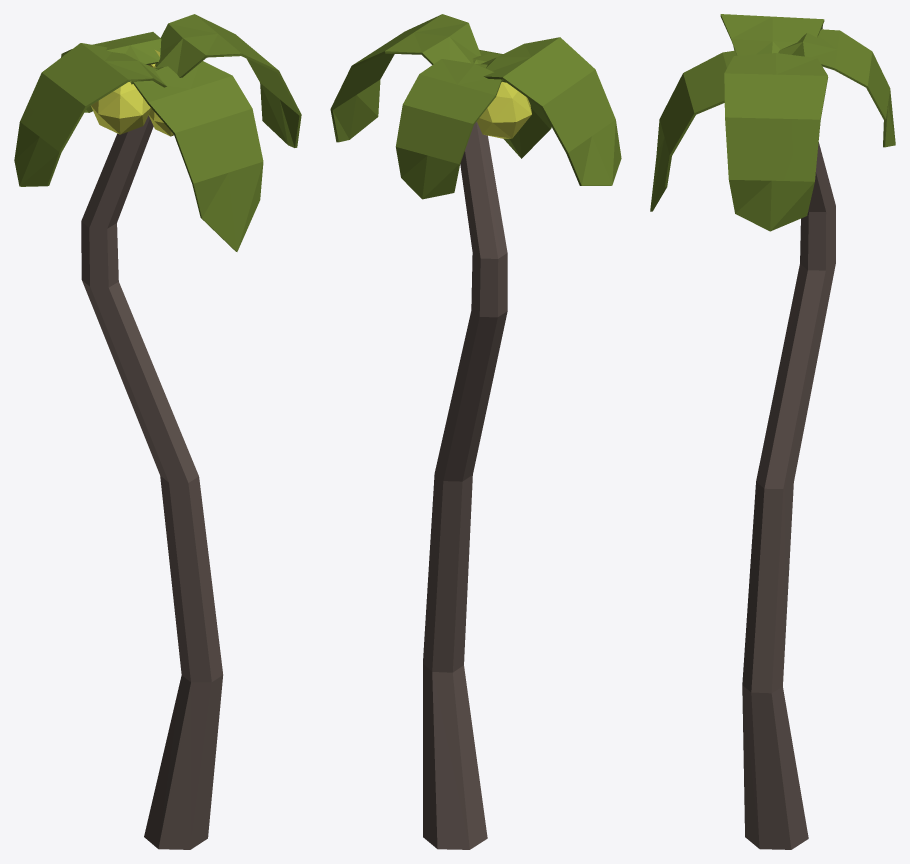
The model's file is 08 Coconut_Tree_2.FBX.
The picture shows the model from 3 angles, left to right: view 1: azimuth 30°, elevation 25°; view 2: azimuth 150°, elevation 25°; view 3: azimuth 270°, elevation 25°; orthographic projection.
Parts seen in each view (by area): view 1: Tree_Tropic_017; view 2: Tree_Tropic_017; view 3: Tree_Tropic_017.
Part boxes in pixels (box(x1,y1,x2,y2)): Tree_Tropic_017: box(14, 14, 301, 849); Tree_Tropic_017: box(330, 14, 621, 849); Tree_Tropic_017: box(650, 14, 895, 849).
Bounding box in the file's own units: 515 × 1467 × 415.
